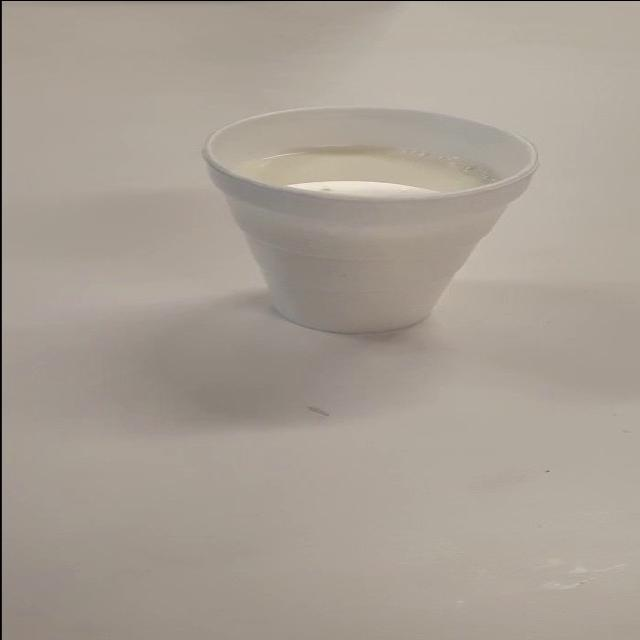Milk: (177, 105, 637, 359)
